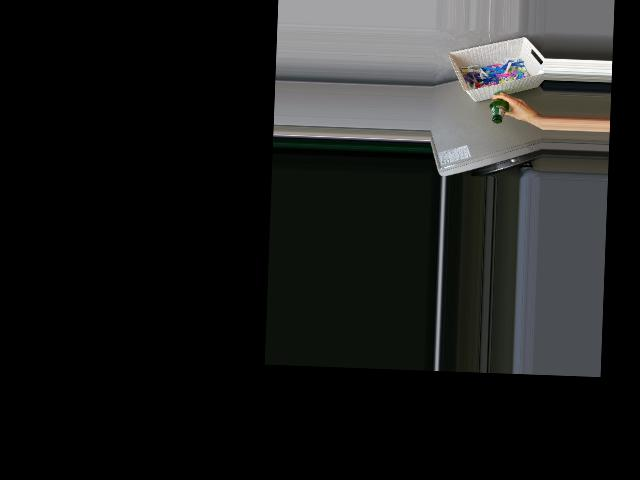beer: (489, 91, 509, 124)
